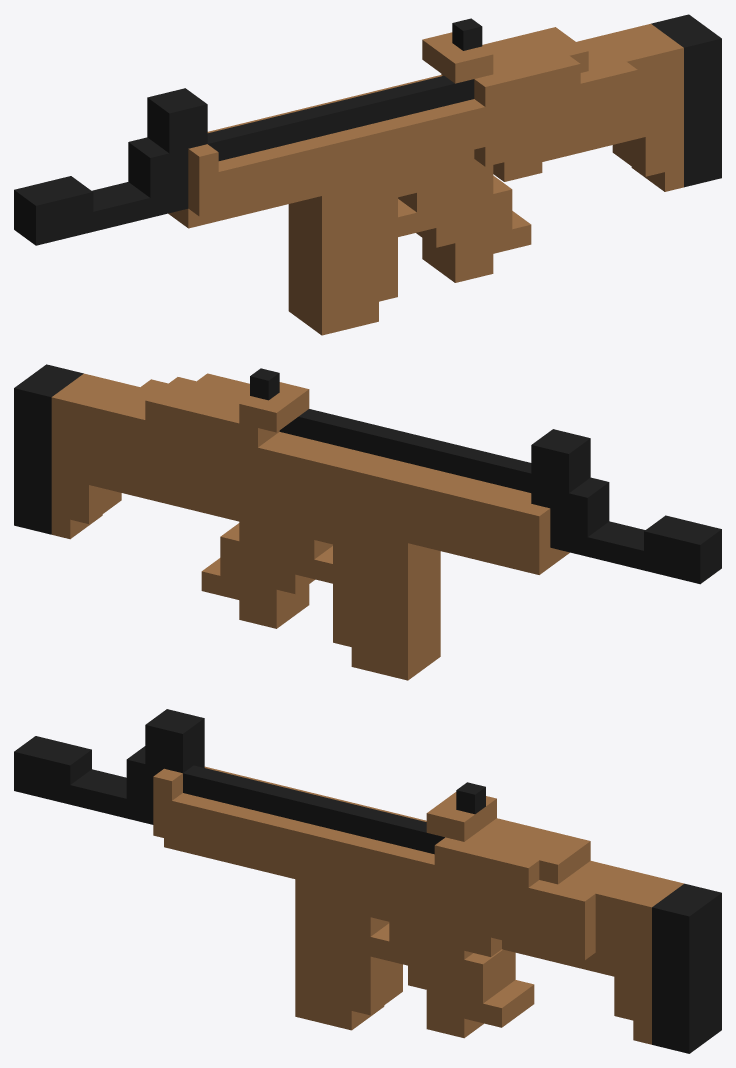
Rendered from Fifth_gun.obj.
3 renders of one model, top to bottom at view 1: azimuth 30°, elevation 25°; view 2: azimuth 150°, elevation 25°; view 3: azimuth 330°, elevation 25°, orthographic.
Size of the model in its own units: 3.6 by 1.3 by 0.4.
Materials: 1 (1 with a texture image).
